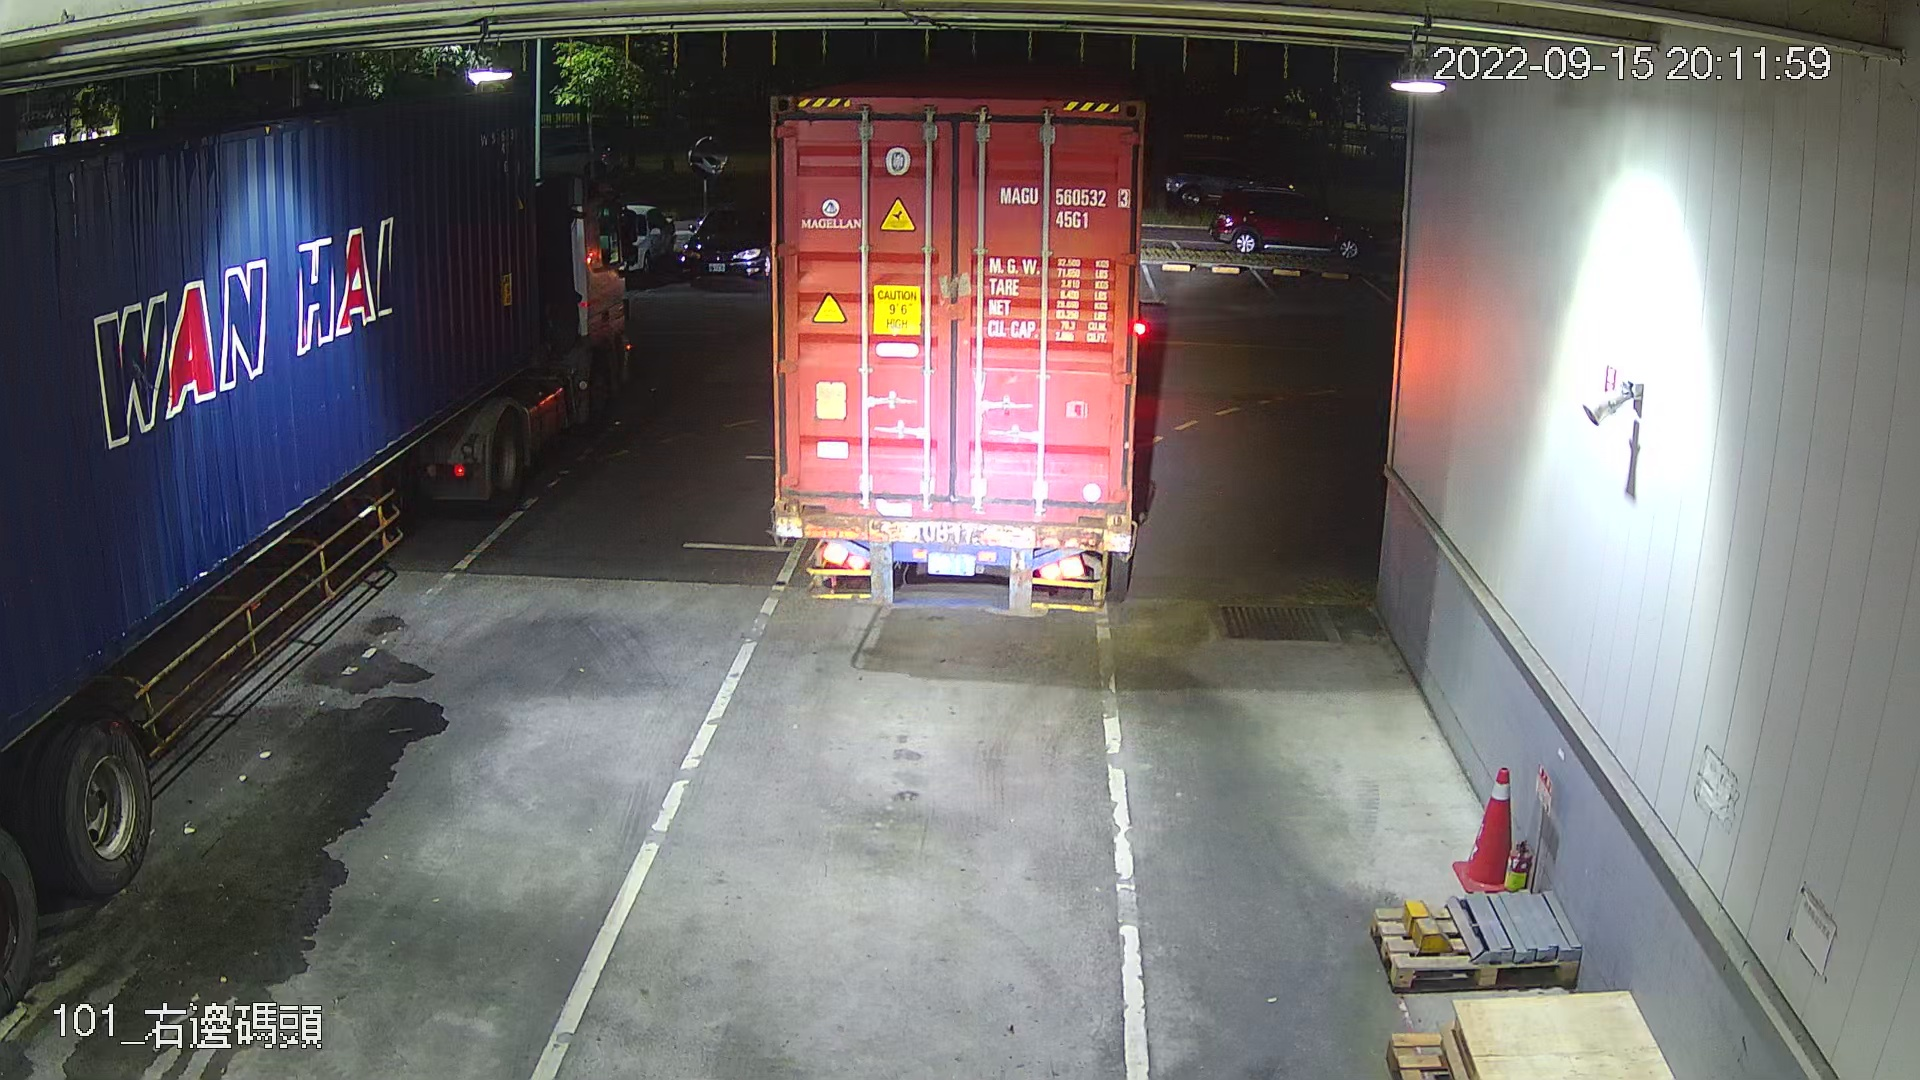container: (994, 174, 1134, 233)
